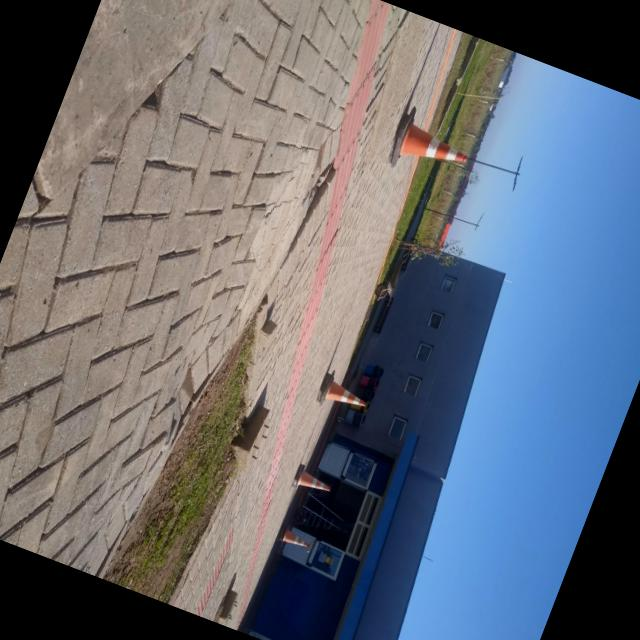cone: (382, 100, 483, 194), (314, 364, 380, 429), (292, 466, 336, 502), (271, 524, 316, 556)
